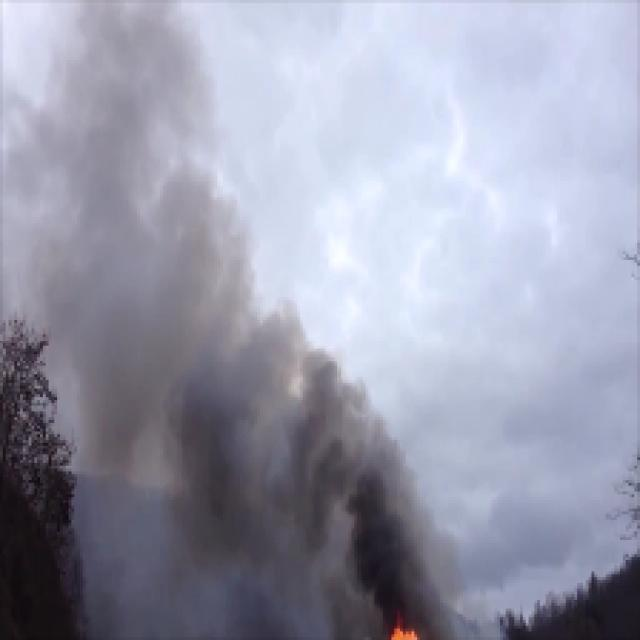Fire: (386, 617, 420, 640)
Smoke: (74, 24, 170, 432), (187, 310, 311, 540), (320, 422, 394, 609)
